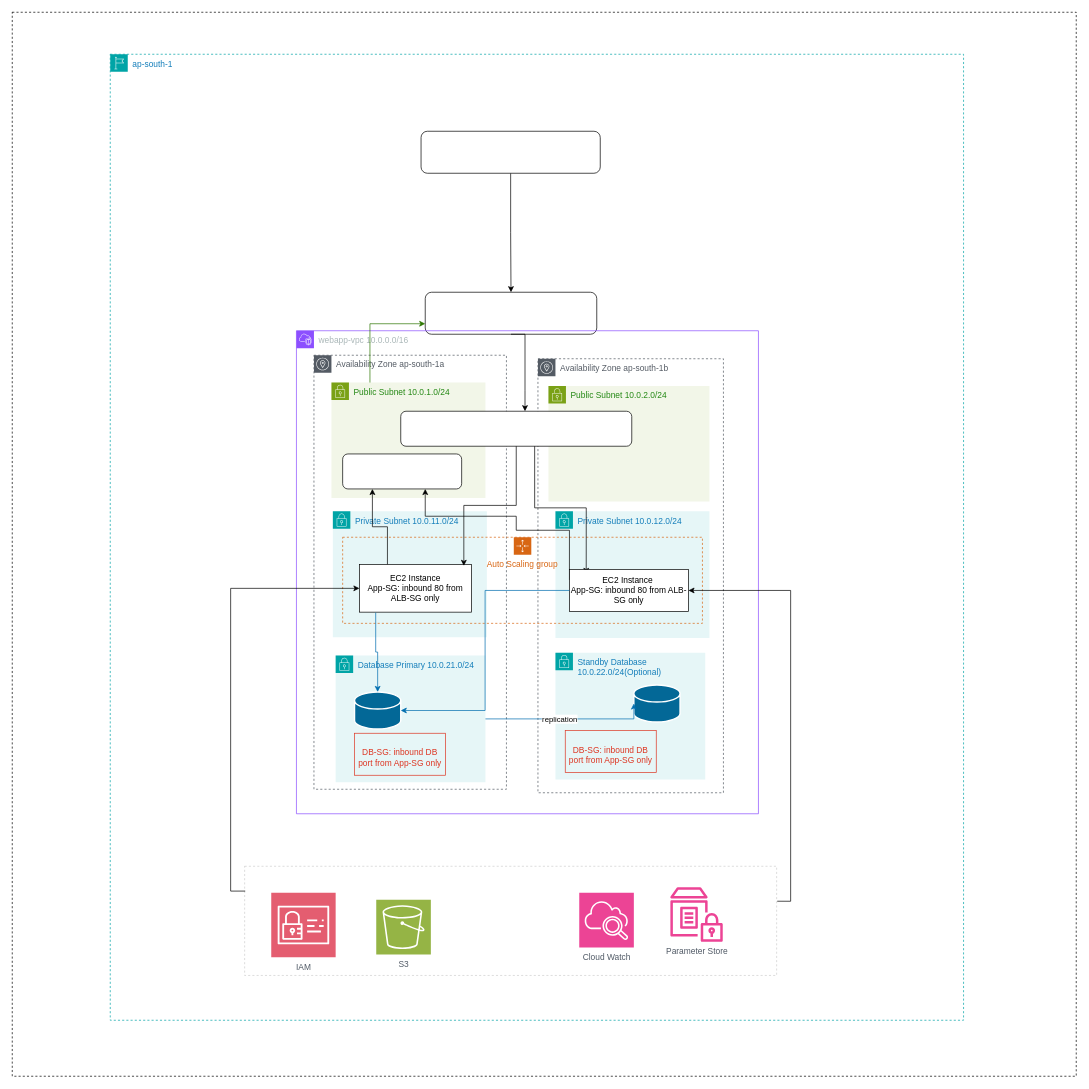
The diagram is 1089 pixels wide and 1089 high, and some of its shapes have lost their labels. Here are the shapes that lost their labels. From the top down, the centre of each, then its label:
At (x=510, y=152): "INTERNET USERS".
At (x=511, y=313): "Internet Gateway".
At (x=516, y=428): "Application Load Balancer ALB-SG: inbound 80 from 0.0.0.0/0".
At (x=402, y=471): "NAT Gateway".
At (x=510, y=920): "Supporting Services".
